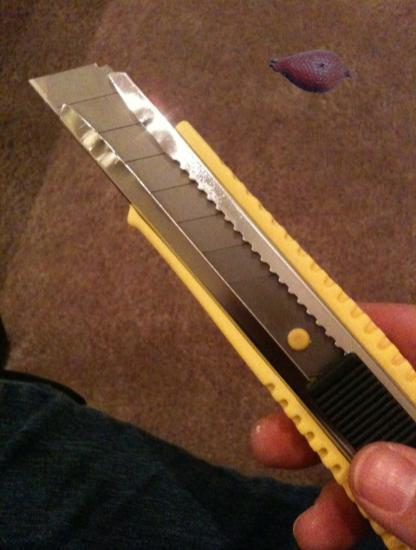Salak: (269, 27, 357, 115)
